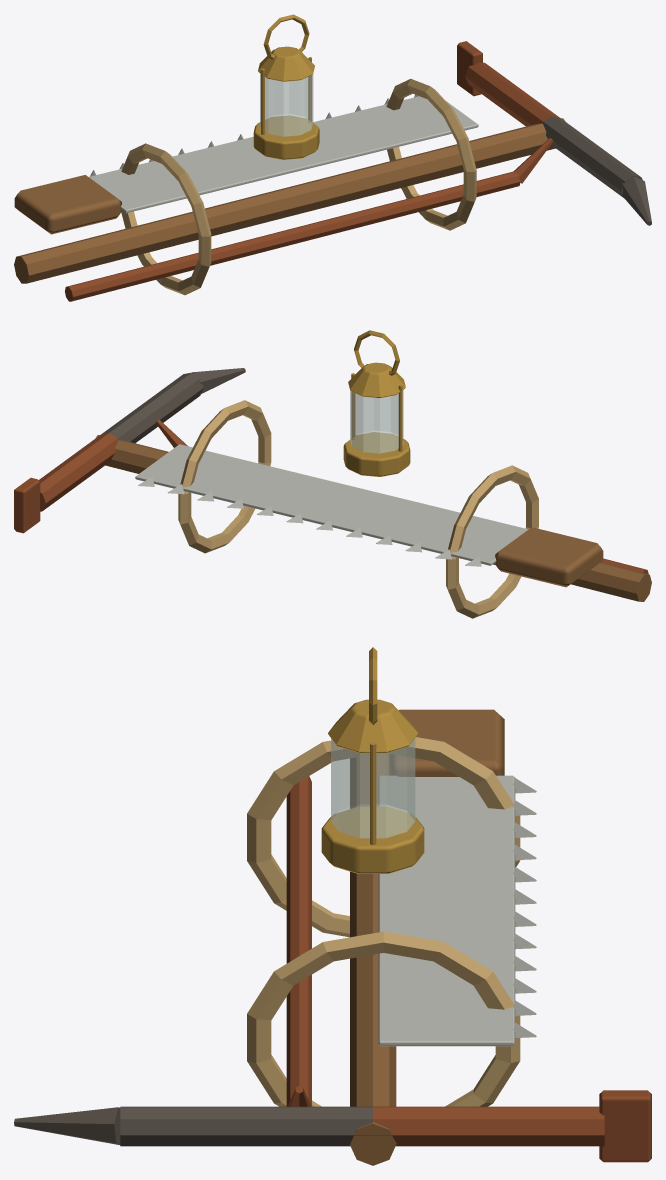
The model's file is LootTools.glb.
3 views of the same model, one above another, from view 1: azimuth 30°, elevation 25°; view 2: azimuth 150°, elevation 25°; view 3: azimuth 270°, elevation 25° (orthographic). The views are drawn at different scales.
Visible parts, largest first — view 1: LootTools.001; view 2: LootTools.001; view 3: LootTools.001.
Boxes of the visible parts, left/top/right/bottom form: LootTools.001: left=14, top=14, right=651, bottom=301; LootTools.001: left=14, top=330, right=651, bottom=618; LootTools.001: left=14, top=647, right=651, bottom=1165.
Bounding box in the file's own units: 0.9205 × 0.3981 × 0.6062.
